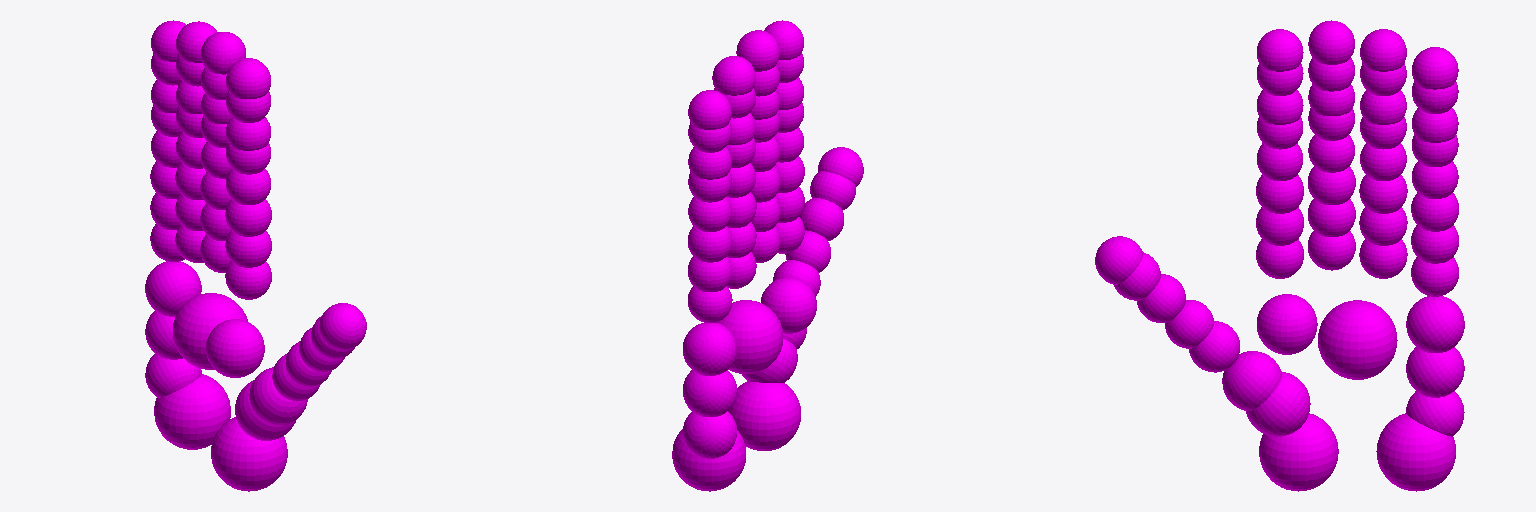
--- Facts derived from the render (not from the file) ---
Views: 3 orthographic renders of the robot side by side, from view 1: azimuth 30°, elevation 25°; view 2: azimuth 150°, elevation 25°; view 3: azimuth 270°, elevation 25°.
Model shadow_left with 83 links and 82 joints (25 revolute, 3 prismatic, 54 fixed), rooted at base_link_x, posed all joints at 0.
Links seen in each view (by area): view 1: palm_collision_ball_0, palm_collision_ball_1, palm_collision_ball_2, palm_collision_ball_3, lfmetacarpal_collision_ball_2, thproximal_collision_ball_1, thdistal_collision_ball_2, lfmetacarpal_collision_ball_0, ffdistal_collision_ball_2, mfdistal_collision_ball_2, ffproximal_collision_ball_2, ffproximal_collision_ball_0 (+28 smaller); view 2: palm_collision_ball_1, palm_collision_ball_2, palm_collision_ball_0, lfmetacarpal_collision_ball_2, palm_collision_ball_3, lfmetacarpal_collision_ball_0, lfmetacarpal_collision_ball_1, lfdistal_collision_ball_2, rfdistal_collision_ball_2, thdistal_collision_ball_0, mfdistal_collision_ball_2, lfproximal_collision_ball_2 (+28 smaller); view 3: palm_collision_ball_2, palm_collision_ball_0, palm_collision_ball_1, palm_collision_ball_3, lfmetacarpal_collision_ball_2, thproximal_collision_ball_1, thproximal_collision_ball_0, lfmetacarpal_collision_ball_1, lfmetacarpal_collision_ball_0, thmiddle_collision_ball_0, thdistal_collision_ball_2, mfdistal_collision_ball_2 (+28 smaller).
Link boxes in pixels (x1,y1,x2,y2): palm_collision_ball_0: (154,374,230,449); palm_collision_ball_1: (211,417,287,491); palm_collision_ball_2: (173,293,247,369); palm_collision_ball_3: (206,319,264,377); lfmetacarpal_collision_ball_2: (145,261,201,316); thproximal_collision_ball_1: (249,367,307,425); thdistal_collision_ball_2: (319,303,366,350); lfmetacarpal_collision_ball_0: (145,354,201,397); ffdistal_collision_ball_2: (226,58,270,98); mfdistal_collision_ball_2: (201,32,245,74); ffproximal_collision_ball_2: (225,199,271,236); ffproximal_collision_ball_0: (225,261,271,299); palm_collision_ball_1: (728,381,800,450); palm_collision_ball_2: (716,300,782,373); palm_collision_ball_0: (672,429,745,491); lfmetacarpal_collision_ball_2: (683,323,736,375); palm_collision_ball_3: (761,277,816,333); lfmetacarpal_collision_ball_0: (683,411,736,458); lfmetacarpal_collision_ball_1: (683,370,736,416); lfdistal_collision_ball_2: (688,90,731,129); rfdistal_collision_ball_2: (712,56,755,95); thdistal_collision_ball_0: (799,198,843,240); mfdistal_collision_ball_2: (736,30,779,71); lfproximal_collision_ball_2: (688,226,732,262); palm_collision_ball_2: (1318,300,1397,379); palm_collision_ball_0: (1376,413,1455,491); palm_collision_ball_1: (1259,413,1338,491); palm_collision_ball_3: (1257,294,1317,354); lfmetacarpal_collision_ball_2: (1406,296,1464,352); thproximal_collision_ball_1: (1222,351,1281,410); thproximal_collision_ball_0: (1246,371,1310,436); lfmetacarpal_collision_ball_1: (1406,347,1464,397); lfmetacarpal_collision_ball_0: (1406,391,1464,436); thmiddle_collision_ball_0: (1189,321,1239,372); thdistal_collision_ball_2: (1095,236,1142,284); mfdistal_collision_ball_2: (1308,20,1354,64).
Size in the robot's own frame: 0.0406 by 0.1573 by 0.216 metres.
Meshes: 9 distinct files referenced, 0 mesh visuals loaded (none loaded); not drawn: 21 (reference not matched to a file when rendering).

URDF robot description (shadow_left):
<robot name="shadow_left">
  <link name="base_link_x"/>

  <joint name="dummy_x_translation_joint" type="prismatic">
    <parent link="base_link_x"/>
    <child link="base_link_y"/>
    <origin rpy="0 0 0" xyz="0 0 0"/>
    <axis xyz="1 0 0"/>
    <limit effort="300" lower="-10" upper="10" velocity="2.1750"/>
  </joint>

  <link name="base_link_y"/>

  <joint name="dummy_y_translation_joint" type="prismatic">
    <parent link="base_link_y"/>
    <child link="base_link_z"/>
    <origin rpy="0 0 0" xyz="0 0 0"/>
    <axis xyz="0 1 0"/>
    <limit effort="300" lower="-10" upper="10" velocity="2.1750"/>
  </joint>

  <link name="base_link_z"/>

  <joint name="dummy_z_translation_joint" type="prismatic">
    <parent link="base_link_z"/>
    <child link="base_link_roll"/>
    <origin rpy="0 0 0" xyz="0 0 0"/>
    <axis xyz="0 0 1"/>
    <limit effort="300" lower="-10" upper="10" velocity="2.1750"/>
  </joint>

  <link name="base_link_roll"/>

  <joint name="dummy_x_rotation_joint" type="revolute">
    <parent link="base_link_roll"/>
    <child link="base_link_pitch"/>
    <origin rpy="0 0 0" xyz="0 0 0"/>
    <axis xyz="1 0 0"/>
    <limit effort="100.95" velocity="108.48" lower="-6.283185" upper="6.283185"/>
  </joint>

  <link name="base_link_pitch"/>

  <joint name="dummy_y_rotation_joint" type="revolute">
    <parent link="base_link_pitch"/>
    <child link="base_link_yaw"/>
    <origin rpy="0 0 0" xyz="0 0 0"/>
    <axis xyz="0 1 0"/>
    <limit effort="100.95" velocity="108.48" lower="-6.283185" upper="6.283185"/>
  </joint>

  <link name="base_link_yaw"/>

  <joint name="dummy_z_rotation_joint" type="revolute">
    <parent link="base_link_yaw"/>
    <child link="world"/>
    <origin rpy="0 0 0" xyz="0 0 0"/>
    <axis xyz="0 0 1"/>
    <limit effort="100.95" velocity="108.48" lower="-6.283185" upper="6.283185"/>
  </joint>

  <link name="world"/>
  <joint name="world_joint" type="fixed">
    <parent link="world"/>
    <child link="palm"/>
    <origin rpy="0.0 0.0 1.57079" xyz="0.0 0.0 0.0"/>
  </joint>

  <link name="palm">
    <inertial>
      <origin rpy="0 0 0" xyz="0 0 0.035"/>
      <mass value="0.3"/>
      <inertia ixx="0.0003581" ixy="0.0" ixz="0.0" iyy="0.0005287" iyz="0.0" izz="0.000191"/>
    </inertial>
    <visual>
      <origin rpy="0 0 0" xyz="0 0 0"/>
      <geometry name="palm_visual">
        <mesh filename="meshes/visual/palm_E3M5_left.obj" scale="0.001 0.001 0.001"/>
      </geometry>
    </visual>
    <collision>
      <origin rpy="0 0 0" xyz="-0.011 0.0085 0.042"/>
      <geometry name="palm_collision_geom">
        <box size="0.062 0.007 0.090"/>
      </geometry>
    </collision>
    <collision>
      <origin rpy="0 0 0" xyz="0.002 -0.0035 0.042"/>
      <geometry>
        <box size="0.036 0.017 0.090"/>
      </geometry>
    </collision>
    <!-- palm complement below first finger -->
    <collision>
      <origin rpy="0 0 0" xyz="-0.029 -0.0035 0.082"/>
      <geometry>
        <box size="0.026 0.017 0.010"/>
      </geometry>
    </collision>
    <collision>
      <origin rpy="0.2 0 -0.25" xyz="-0.0265 -0.001 0.070"/>
      <geometry>
        <box size="0.026 0.014 0.018"/>
      </geometry>
    </collision>
    <!-- thumb pulp side -->
    <collision>
      <origin rpy="0 0 0" xyz="-0.0315 -0.0085 0.001"/>
      <geometry>
        <box size="0.021 0.027 0.016"/>
      </geometry>
    </collision>
    <!-- thumb pulp central -->
    <collision>
      <origin rpy="0 0 0.48" xyz="-0.0125 -0.015 0.009"/>
      <geometry>
        <box size="0.022 0.005 0.032"/>
      </geometry>
    </collision>
    <!-- above middle finger-->
    <collision>
      <origin rpy="0 0 0" xyz="-0.011 0 0.089"/>
      <geometry>
        <box size="0.018 0.024 0.004"/>
      </geometry>
    </collision>
    <!-- metacarpal side-->
    <collision>
      <origin rpy="0 0 0" xyz="0.03 0 0.009"/>
      <geometry>
        <box size="0.020 0.024 0.032"/>
      </geometry>
    </collision>
  </link>

  <!-- balls -->

  <link name="palm_collision_ball_0">
    <visual>
    <geometry>
    <sphere radius="0.017"/>
    </geometry>
    <material name="purple">
    <color rgba="1.0 0.0 1.0 1.0"/>
    </material>
    </visual>
    <collision>
    <geometry>
    <sphere radius="0.017"/>
    </geometry>
    </collision>
  </link>
  <joint name="palm_collision_ball_0_joint" type="fixed">
    <parent link="palm"/>
    <child link="palm_collision_ball_0"/>
    <origin rpy="0 0 0" xyz="0.025 -0.005 0.005 "/>
  </joint>

  <link name="palm_collision_ball_1">
    <visual>
    <geometry>
    <sphere radius="0.017"/>
    </geometry>
    <material name="purple">
    <color rgba="1.0 0.0 1.0 1.0"/>
    </material>
    </visual>
    <collision>
    <geometry>
    <sphere radius="0.017"/>
    </geometry>
    </collision>
  </link>
  <joint name="palm_collision_ball_1_joint" type="fixed">
    <parent link="palm"/>
    <child link="palm_collision_ball_1"/>
    <origin rpy="0 0 0" xyz="-0.025 -0.005 0.005 "/>
  </joint>

  <link name="palm_collision_ball_2">
    <visual>
    <geometry>
    <sphere radius="0.017"/>
    </geometry>
    <material name="purple">
    <color rgba="1.0 0.0 1.0 1.0"/>
    </material>
    </visual>
    <collision>
    <geometry>
    <sphere radius="0.017"/>
    </geometry>
    </collision>
  </link>
  <joint name="palm_collision_ball_2_joint" type="fixed">
    <parent link="palm"/>
    <child link="palm_collision_ball_2"/>
    <origin rpy="0 0 0" xyz="0.0 0.0 0.055 "/>
  </joint> 

  <link name="palm_collision_ball_3">
    <visual>
    <geometry>
    <sphere radius="0.013"/>
    </geometry>
    <material name="purple">
    <color rgba="1.0 0.0 1.0 1.0"/>
    </material>
    </visual>
    <collision>
    <geometry>
    <sphere radius="0.013"/>
    </geometry>
    </collision>
  </link>
  <joint name="palm_collision_ball_3_joint" type="fixed">
    <parent link="palm"/>
    <child link="palm_collision_ball_3"/>
    <origin rpy="0 0 0" xyz="-0.03 0.005 0.06 "/>
  </joint>

  <joint name="ee_fixed_joint" type="fixed">
    <parent link="palm"/>
    <child link="ee_link"/>
    <origin rpy="0.0 0.0 0.0" xyz="0.0 0.0 0.00"/>
  </joint>
  <link name="ee_link"/>
  <!-- <joint name="WRJ1" type="revolute">
    <parent link="wrist"/>
    <child link="palm"/>
    <origin rpy="0 0 0" xyz="0 0 0.034"/>
    <axis xyz="1 0 0"/>
    <limit effort="30" lower="-0.698131700798" upper="0.488692190558" velocity="2.0"/>
    <dynamics damping="0.1"/>
  </joint> -->
  <link name="imu"/>
  <joint name="palm_to_imu" type="fixed">
    <parent link="palm"/>
    <child link="imu"/>
    <origin rpy="-1.5707963 3.141592 0.0" xyz="0.01785 0.00765 0.049125"/>
  </joint>
  <link name="ffknuckle">
    <inertial>
      <origin rpy="0 0 0" xyz="0 0 0"/>
      <mass value="0.008"/>
      <inertia ixx="0.00000026" ixy="0.0" ixz="0.0" iyy="0.00000026" iyz="0.0" izz="0.00000032"/>
    </inertial>
    <visual>
      <origin rpy="0 0 0" xyz="0 0 0.0005"/>
      <geometry name="ffknuckle_visual">
        <mesh filename="meshes/visual/f_knuckle_E3M5.obj" scale="0.001 0.001 0.001"/>
      </geometry>
    </visual>
    <collision>
      <origin rpy="0 1.5708 0" xyz="0 0 0"/>
      <geometry name="lh_ffknuckle_collision_geom">
        <mesh filename="meshes/collision/f_knuckle_E3M5.obj"/>
      </geometry>
    </collision>
  </link>

  <!-- balls -->

  <!-- <link name="ffknuckle_collision_ball_0">
    <visual>
    <geometry>
    <sphere radius="0.01"/>
    </geometry>
    <material name="purple">
    <color rgba="1.0 0.0 1.0 1.0"/>
    </material>
    </visual>
    <collision>
    <geometry>
    <sphere radius="0.01"/>
    </geometry>
    </collision>
  </link>
  <joint name="ffknuckle_collision_ball_0_joint" type="fixed">
    <parent link="ffknuckle"/>
    <child link="ffknuckle_collision_ball_0"/>
    <origin rpy="0 0 0" xyz="0.0 0.0 -0.011 "/>
  </joint>

  <link name="ffknuckle_collision_ball_1">
    <visual>
    <geometry>
    <sphere radius="0.01"/>
    </geometry>
    <material name="purple">
    <color rgba="1.0 0.0 1.0 1.0"/>
    </material>
    </visual>
    <collision>
    <geometry>
    <sphere radius="0.01"/>
    </geometry>
    </collision>
  </link>
  <joint name="ffknuckle_collision_ball_1_joint" type="fixed">
    <parent link="ffknuckle"/>
    <child link="ffknuckle_collision_ball_1"/>
    <origin rpy="0 0 0" xyz="0.0 0.0 -0.03 "/>
  </joint>

  <link name="ffknuckle_collision_ball_2">
    <visual>
    <geometry>
    <sphere radius="0.01"/>
    </geometry>
    <material name="purple">
    <color rgba="1.0 0.0 1.0 1.0"/>
    </material>
    </visual>
    <collision>
    <geometry>
    <sphere radius="0.01"/>
    </geometry>
    </collision>
  </link>
  <joint name="ffknuckle_collision_ball_2_joint" type="fixed">
    <parent link="ffknuckle"/>
    <child link="ffknuckle_collision_ball_2"/>
    <origin rpy="0 0 0" xyz="0.0 0.0 -0.05 "/>
  </joint> -->

  <joint name="FFJ4" type="revolute">
    <parent link="palm"/>
    <child link="ffknuckle"/>
    <origin rpy="0 0 0" xyz="-0.033 0 0.095"/>
    <axis xyz="0 1 0"/>
    <limit effort="2" lower="-0.349065850399" upper="0.349065850399" velocity="2.0"/>
    <dynamics damping="0.1"/>
  </joint>
  <link name="ffproximal">
    <inertial>
      <mass value="0.030"/>
      <origin xyz="0 0 0.0225"/>
      <inertia ixx="0.0000098" ixy="0.0" ixz="0.0" iyy="0.00001" iyz="0.0" izz="0.0000018"/>
    </inertial>
    <visual>
      <origin rpy="0 0 0" xyz="0 0 0"/>
      <geometry name="ffproximal_visual">
        <mesh filename="meshes/visual/f_proximal_E3M5.obj" scale="0.001 0.001 0.001"/>
      </geometry>
    </visual>
    <collision>
      <origin rpy="0 0 0" xyz="0 0 0.025"/>
      <geometry name="ffproximal_collision_geom">
        <cylinder length="0.040" radius="0.007"/>
      </geometry>
    </collision>
  </link>

  <!-- balls -->

  <link name="ffproximal_collision_ball_0">
    <visual>
    <geometry>
    <sphere radius="0.0103"/>
    </geometry>
    <material name="purple">
    <color rgba="1.0 0.0 1.0 1.0"/>
    </material>
    </visual>
    <collision>
    <geometry>
    <sphere radius="0.0103"/>
    </geometry>
    </collision>
  </link>
  <joint name="ffproximal_collision_ball_0_joint" type="fixed">
    <parent link="ffproximal"/>
    <child link="ffproximal_collision_ball_0"/>
    <origin rpy="0 0 0" xyz="0.0 0.0 0.0 "/>
  </joint>

  <link name="ffproximal_collision_ball_1">
    <visual>
    <geometry>
    <sphere radius="0.0103"/>
    </geometry>
    <material name="purple">
    <color rgba="1.0 0.0 1.0 1.0"/>
    </material>
    </visual>
    <collision>
    <geometry>
    <sphere radius="0.0103"/>
    </geometry>
    </collision>
  </link>
  <joint name="ffproximal_collision_ball_1_joint" type="fixed">
    <parent link="ffproximal"/>
    <child link="ffproximal_collision_ball_1"/>
    <origin rpy="0 0 0" xyz="0.0 0.0 0.015 "/>
  </joint>

  <link name="ffproximal_collision_ball_2">
    <visual>
    <geometry>
    <sphere radius="0.0103"/>
    </geometry>
    <material name="purple">
    <color rgba="1.0 0.0 1.0 1.0"/>
    </material>
    </visual>
    <collision>
    <geometry>
    <sphere radius="0.0103"/>
    </geometry>
    </collision>
  </link>
  <joint name="ffproximal_collision_ball_2_joint" type="fixed">
    <parent link="ffproximal"/>
    <child link="ffproximal_collision_ball_2"/>
    <origin rpy="0 0 0" xyz="0.0 0.0 0.03 "/>
  </joint>

  <joint name="FFJ3" type="revolute">
    <parent link="ffknuckle"/>
    <child link="ffproximal"/>
    <origin rpy="0 0 0" xyz="0 0 0"/>
    <axis xyz="1 0 0"/>
    <limit effort="2" lower="-0.261799387799" upper="1.57079632679" velocity="2.0"/>
    <dynamics damping="0.1"/>
  </joint>
  <link name="ffmiddle">
    <inertial>
      <origin rpy="0 0 0" xyz="0 0 0.0125"/>
      <mass value="0.017"/>
      <inertia ixx="0.0000026" ixy="0.0" ixz="0.0" iyy="0.0000027" iyz="0.0" izz="0.00000087"/>
    </inertial>
    <visual>
      <origin rpy="0 0 0" xyz="0 0 0"/>
      <geometry name="ffmiddle_visual">
        <mesh filename="meshes/visual/f_middle_E3M5.obj" scale="0.001 0.001 0.001"/>
      </geometry>
    </visual>
    <collision>
      <origin rpy="0 0 0" xyz="0 0 0.0125"/>
      <geometry name="ffmiddle_collision_geom">
        <cylinder length="0.025" radius="0.007"/>
      </geometry>
    </collision>
    <collision>
      <origin rpy="0 0 0" xyz="0 0 0.0"/>
      <geometry>
        <sphere radius="0.007"/>
      </geometry>
    </collision>
    <collision>
      <origin rpy="0 0 0" xyz="0 0 0.025"/>
      <geometry>
        <sphere radius="0.007"/>
      </geometry>
    </collision>
  </link>

  <!-- balls -->

  <link name="ffmiddle_collision_ball_0">
    <visual>
    <geometry>
    <sphere radius="0.010"/>
    </geometry>
    <material name="purple">
    <color rgba="1.0 0.0 1.0 1.0"/>
    </material>
    </visual>
    <collision>
    <geometry>
    <sphere radius="0.010"/>
    </geometry>
    </collision>
  </link>
  <joint name="ffmiddle_collision_ball_0_joint" type="fixed">
    <parent link="ffmiddle"/>
    <child link="ffmiddle_collision_ball_0"/>
    <origin rpy="0 0 0" xyz="0.0 0.0 0.0 "/>
  </joint>

  <link name="ffmiddle_collision_ball_1">
    <visual>
    <geometry>
    <sphere radius="0.010"/>
    </geometry>
    <material name="purple">
    <color rgba="1.0 0.0 1.0 1.0"/>
    </material>
    </visual>
    <collision>
    <geometry>
    <sphere radius="0.010"/>
    </geometry>
    </collision>
  </link>
  <joint name="ffmiddle_collision_ball_1_joint" type="fixed">
    <parent link="ffmiddle"/>
    <child link="ffmiddle_collision_ball_1"/>
    <origin rpy="0 0 0" xyz="0.0 0.0 0.015 "/>
  </joint>

  <joint name="FFJ2" type="revolute">
    <parent link="ffproximal"/>
    <child link="ffmiddle"/>
    <origin rpy="0 0 0" xyz="0 0 0.045"/>
    <axis xyz="1 0 0"/>
    <limit effort="2" lower="0" upper="1.57079632679" velocity="2.0"/>
    <dynamics damping="0.1"/>
  </joint>
  <link name="ffdistal">
    <!--    inertial and mass is enlarged by 10 times to fix the position drive issue in Physx simulation, used in IsaacGym and SAPIEN-->
    <inertial>
      <mass value="0.12"/>
      <origin xyz="0 0 0.012"/>
      <inertia ixx="0.0000094" ixy="0.0" ixz="0.0" iyy="0.000011" iyz="0.0" izz="0.0000053"/>
    </inertial>
    <visual>
      <origin rpy="0 0 0" xyz="0 0 0"/>
      <geometry name="ffdistal_visual">
        <mesh filename="meshes/visual/f_distal_pst.obj" scale="0.001 0.001 0.001"/>
      </geometry>
    </visual>
    <collision>
      <origin rpy="0 0 0" xyz="0 0 0"/>
      <geometry name="ffdistal_collision_geom">
        <mesh filename="meshes/collision/f_distal_pst.obj" scale="0.001 0.001 0.001"/>
      </geometry>
    </collision>
  </link>

  <!-- balls -->

  <link name="ffdistal_collision_ball_0">
    <visual>
    <geometry>
    <sphere radius="0.010"/>
    </geometry>
    <material name="purple">
    <color rgba="1.0 0.0 1.0 1.0"/>
    </material>
    </visual>
    <collision>
    <geometry>
    <sphere radius="0.010"/>
    </geometry>
    </collision>
  </link>
  <joint name="ffdistal_collision_ball_0_joint" type="fixed">
    <parent link="ffdistal"/>
    <child link="ffdistal_collision_ball_0"/>
    <origin rpy="0 0 0" xyz="0.0 0.0 0.0 "/>
  </joint>

  <link name="ffdistal_collision_ball_1">
    <visual>
    <geometry>
    <sphere radius="0.010"/>
    </geometry>
    <material name="purple">
    <color rgba="1.0 0.0 1.0 1.0"/>
    </material>
    </visual>
    <collision>
    <geometry>
    <sphere radius="0.010"/>
    </geometry>
    </collision>
  </link>
  <joint name="ffdistal_collision_ball_1_joint" type="fixed">
    <parent link="ffdistal"/>
    <child link="ffdistal_collision_ball_1"/>
    <origin rpy="0 0 0" xyz="0.0 0.0 0.015 "/>
  </joint>

  <link name="ffdistal_collision_ball_2">
    <visual>
    <geometry>
    <sphere radius="0.010"/>
    </geometry>
    <material name="purple">
    <color rgba="1.0 0.0 1.0 1.0"/>
    </material>
    </visual>
    <collision>
    <geometry>
    <sphere radius="0.010"/>
    </geometry>
    </collision>
  </link>
  <joint name="ffdistal_collision_ball_2_joint" type="fixed">
    <parent link="ffdistal"/>
    <child link="ffdistal_collision_ball_2"/>
    <origin rpy="0 0 0" xyz="0.0 0.0 0.025 "/>
  </joint>

  <joint name="FFJ1" type="revolute">
    <parent link="ffmiddle"/>
    <child link="ffdistal"/>
    <origin rpy="0 0 0" xyz="0 0 0.025"/>
    <axis xyz="1 0 0"/>
    <!-- standard distal joint -->
    <limit effort="2" lower="0" upper="1.57079632679" velocity="2.0"/>
    <dynamics damping="0.1"/>
  </joint>
  <link name="fftip">
    <inertial>
      <mass value="0.001"/>
      <inertia ixx="0.0" ixy="0.0" ixz="0.0" iyy="0.0" iyz="0.0" izz="0.0"/>
    </inertial>
  </link>
  <joint name="FFtip" type="fixed">
    <parent link="ffdistal"/>
    <child link="fftip"/>
    <origin rpy="0 0 0" xyz="0 0 0.026"/>
  </joint>
  <link name="mfknuckle">
    <inertial>
      <origin rpy="0 0 0" xyz="0 0 0"/>
      <mass value="0.008"/>
      <inertia ixx="0.00000026" ixy="0.0" ixz="0.0" iyy="0.00000026" iyz="0.0" izz="0.00000032"/>
    </inertial>
    <visual>
      <origin rpy="0 0 0" xyz="0 0 0.0005"/>
      <geometry name="mfknuckle_visual">
        <mesh filename="meshes/visual/f_knuckle_E3M5.obj" scale="0.001 0.001 0.001"/>
      </geometry>
    </visual>
    <collision>
      <geometry name="ffknuckle_visual">
        <mesh filename="meshes/collision/f_knuckle_E3M5.obj"/>
      </geometry>
    </collision>
  </link>

  <joint name="MFJ4" type="revolute">
    <parent link="palm"/>
    <child link="mfknuckle"/>
    <!--<origin xyz="0.033 0 0.095" rpy="0 0 0" />-->
    <origin rpy="0 0 0" xyz="-0.011 0 0.099"/>
    <axis xyz="0 1 0"/>
    <limit effort="2" lower="-0.349065850399" upper="0.349065850399" velocity="2.0"/>
    <dynamics damping="0.1"/>
  </joint>
  <link name="mfproximal">
    <inertial>
      <mass value="0.030"/>
      <origin xyz="0 0 0.0225"/>
      <inertia ixx="0.0000098" ixy="0.0" ixz="0.0" iyy="0.00001" iyz="0.0" izz="0.0000018"/>
    </inertial>
    <visual>
      <origin rpy="0 0 0" xyz="0 0 0"/>
      <geometry name="mfproximal_visual">
        <mesh filename="meshes/visual/f_proximal_E3M5.obj" scale="0.001 0.001 0.001"/>
      </geometry>
    </visual>
    <collision>
      <origin rpy="0 0 0" xyz="0 0 0.025"/>
      <geometry name="mfproximal_collision_geom">
        <cylinder length="0.040" radius="0.007"/>
      </geometry>
    </collision>
  </link>

  <!-- balls -->

  <link name="mfproximal_collision_ball_0">
    <visual>
    <geometry>
    <sphere radius="0.0103"/>
    </geometry>
    <material name="purple">
    <color rgba="1.0 0.0 1.0 1.0"/>
    </material>
    </visual>
    <collision>
    <geometry>
    <sphere radius="0.0103"/>
    </geometry>
    </collision>
  </link>
  <joint name="mfproximal_collision_ball_0_joint" type="fixed">
    <parent link="mfproximal"/>
    <child link="mfproximal_collision_ball_0"/>
    <origin rpy="0 0 0" xyz="0.0 0.0 0.0 "/>
  </joint>

  <link name="mfproximal_collision_ball_1">
    <visual>
    <geometry>
    <sphere radius="0.0103"/>
    </geometry>
    <material name="purple">
    <color rgba="1.0 0.0 1.0 1.0"/>
    </material>
    </visual>
    <collision>
    <geometry>
    <sphere radius="0.0103"/>
    </geometry>
    </collision>
  </link>
  <joint name="mfproximal_collision_ball_1_joint" type="fixed">
    <parent link="mfproximal"/>
    <child link="mfproximal_collision_ball_1"/>
    <origin rpy="0 0 0" xyz="0.0 0.0 0.015 "/>
  </joint>

  <link name="mfproximal_collision_ball_2">
    <visual>
    <geometry>
    <sphere radius="0.0103"/>
    </geometry>
    <material name="purple">
    <color rgba="1.0 0.0 1.0 1.0"/>
    </material>
    </visual>
    <collision>
    <geometry>
    <sphere radius="0.0103"/>
    </geometry>
    </collision>
  </link>
  <joint name="mfproximal_collision_ball_2_joint" type="fixed">
    <parent link="mfproximal"/>
    <child link="mfproximal_collision_ball_2"/>
    <origin rpy="0 0 0" xyz="0.0 0.0 0.03 "/>
  </joint>

  <joint name="MFJ3" type="revolute">
    <parent link="mfknuckle"/>
    <child link="mfproximal"/>
    <origin rpy="0 0 0" xyz="0 0 0"/>
    <axis xyz="1 0 0"/>
    <limit effort="2" lower="-0.261799387799" upper="1.57079632679" velocity="2.0"/>
    <dynamics damping="0.1"/>
  </joint>
  <link name="mfmiddle">
    <inertial>
      <origin rpy="0 0 0" xyz="0 0 0.0125"/>
      <mass value="0.017"/>
      <inertia ixx="0.0000026" ixy="0.0" ixz="0.0" iyy="0.0000027" iyz="0.0" izz="0.00000087"/>
    </inertial>
    <visual>
      <origin rpy="0 0 0" xyz="0 0 0"/>
      <geometry name="mfmiddle_visual">
        <mesh filename="meshes/visual/f_middle_E3M5.obj" scale="0.001 0.001 0.001"/>
      </geometry>
    </visual>
    <collision>
      <origin rpy="0 0 0" xyz="0 0 0.0125"/>
      <geometry name="mfmiddle_collision_geom">
        <cylinder length="0.025" radius="0.007"/>
      </geometry>
    </collision>
    <collision>
      <origin rpy="0 0 0" xyz="0 0 0.0"/>
      <geometry>
        <sphere radius="0.007"/>
      </geometry>
    </collision>
    <collision>
      <origin rpy="0 0 0" xyz="0 0 0.025"/>
      <geometry>
        <sphere radius="0.007"/>
      </geometry>
    </collision>
  </link>

  <!-- balls -->

  <link name="mfmiddle_collision_ball_0">
    <visual>
    <geometry>
    <sphere radius="0.010"/>
    </geometry>
    <material name="purple">
    <color rgba="1.0 0.0 1.0 1.0"/>
    </material>
    </visual>
    <collision>
    <geometry>
    <sphere radius="0.010"/>
    </geometry>
    </collision>
  </link>
  <joint name="mfmiddle_collision_ball_0_joint" type="fixed">
    <parent link="mfmiddle"/>
    <child link="mfmiddle_collision_ball_0"/>
    <origin rpy="0 0 0" xyz="0.0 0.0 0.0 "/>
  </joint>

  <link name="mfmiddle_collision_ball_1">
    <visual>
    <geometry>
    <sphere radius="0.010"/>
    </geometry>
    <material name="purple">
    <color rgba="1.0 0.0 1.0 1.0"/>
    </material>
    </visual>
    <collision>
    <geometry>
    <sphere radius="0.010"/>
    </geometry>
    </collision>
  </link>
  <joint name="mfmiddle_collision_ball_1_joint" type="fixed">
    <parent link="mfmiddle"/>
    <child link="mfmiddle_collision_ball_1"/>
    <origin rpy="0 0 0" xyz="0.0 0.0 0.015 "/>
  </joint>

  <joint name="MFJ2" type="revolute">
    <parent link="mfproximal"/>
    <child link="mfmiddle"/>
    <origin rpy="0 0 0" xyz="0 0 0.045"/>
    <axis xyz="1 0 0"/>
    <limit effort="2" lower="0" upper="1.57079632679" velocity="2.0"/>
    <dynamics damping="0.1"/>
  </joint>
  <link name="mfdistal">
    <!--    inertial and mass is enlarged by 10 times to fix the position drive issue in Physx simulation, used in IsaacGym and SAPIEN-->
    <inertial>
      <mass value="0.12"/>
      <origin xyz="0 0 0.012"/>
      <inertia ixx="0.0000094" ixy="0.0" ixz="0.0" iyy="0.000011" iyz="0.0" izz="0.0000053"/>
    </inertial>
    <visual>
      <origin rpy="0 0 0" xyz="0 0 0"/>
      <geometry name="mfdistal_visual">
        <mesh filename="meshes/visual/f_distal_pst.obj" scale="0.001 0.001 0.001"/>
      </geometry>
    </visual>
    <collision>
      <origin rpy="0 0 0" xyz="0 0 0"/>
      <geometry name="mfdistal_collision_geom">
        <mesh filename="meshes/collision/f_distal_pst.obj" scale="0.001 0.001 0.001"/>
      </geometry>
    </collision>
  </link>

  <!-- balls -->

  <link name="mfdistal_collision_ball_0">
    <visual>
    <geometry>
    <sphere radius="0.010"/>
    </geometry>
    <material name="purple">
    <color rgba="1.0 0.0 1.0 1.0"/>
    </material>
    </visual>
    <collision>
    <geometry>
    <sphere radius="0.010"/>
    </geometry>
    </collision>
  </link>
  <joint name="mfdistal_collision_ball_0_joint" type="fixed">
    <parent link="mfdistal"/>
    <child link="mfdistal_collision_ball_0"/>
    <origin rpy="0 0 0" xyz="0.0 0.0 0.0 "/>
  </joint>

  <link name="mfdistal_collision_ball_1">
    <visual>
    <geometry>
    <sphere radius="0.010"/>
    </geometry>
    <material name="purple">
    <color rgba="1.0 0.0 1.0 1.0"/>
    </material>
    </visual>
    <collision>
    <geometry>
    <sphere radius="0.010"/>
    </geometry>
    </collision>
  </link>
  <joint name="mfdistal_collision_ball_1_joint" type="fixed">
    <parent link="mfdistal"/>
    <child link="mfdistal_collision_ball_1"/>
    <origin rpy="0 0 0" xyz="0.0 0.0 0.0125 "/>
  </joint>

  <link name="mfdistal_collision_ball_2">
    <visual>
    <geometry>
    <sphere radius="0.010"/>
    </geometry>
    <material name="purple">
    <color rgba="1.0 0.0 1.0 1.0"/>
    </material>
    </visual>
    <collision>
    <geometry>
    <sphere radius="0.010"/>
    </geometry>
    </collision>
  </link>
  <joint name="mfdistal_collision_ball_2_joint" type="fixed">
    <parent link="mfdistal"/>
    <child link="mfdistal_collision_ball_2"/>
    <origin rpy="0 0 0" xyz="0.0 0.0 0.025 "/>
  </joint>

  <joint name="MFJ1" type="revolute">
    <parent link="mfmiddle"/>
    <child link="mfdistal"/>
    <origin rpy="0 0 0" xyz="0 0 0.025"/>
    <axis xyz="1 0 0"/>
    <!-- standard distal joint -->
    <limit effort="2" lower="0" upper="1.57079632679" velocity="2.0"/>
    <dynamics damping="0.1"/>
  </joint>
  <link name="mftip">
    <inertial>
      <mass value="0.001"/>
      <inertia ixx="0.0" ixy="0.0" ixz="0.0" iyy="0.0" iyz="0.0" izz="0.0"/>
    </inertial>
  </link>
  <joint name="MFtip" type="fixed">
    <parent link="mfdistal"/>
    <child link="mftip"/>
    <origin rpy="0 0 0" xyz="0 0 0.026"/>
  </joint>
  <link name="rfknuckle">
    <inertial>
      <origin rpy="0 0 0" xyz="0 0 0"/>
      <mass value="0.008"/>
      <inertia ixx="0.00000026" ixy="0.0" ixz="0.0" iyy="0.00000026" iyz="0.0" izz="0.00000032"/>
    </inertial>
    <visual>
      <origin rpy="0 0 0" xyz="0 0 0.0005"/>
      <geometry name="rfknuckle_visual">
        <mesh filename="meshes/visual/f_knuckle_E3M5.obj" scale="0.001 0.001 0.001"/>
      </geometry>
    </visual>
    <collision>
      <geometry name="ffknuckle_visual">
        <mesh filename="meshes/collision/f_knuckle_E3M5.obj"/>
      </geometry>
    </collision>
  </link>
  <joint name="RFJ4" type="revolute">
    <parent link="palm"/>
    <child link="rfknuckle"/>
    <!--<origin xyz="0.033 0 0.095" rpy="0 0 0" />-->
    <origin rpy="0 0 0" xyz="0.011 0 0.095"/>
    <axis xyz="0 -1 0"/>
    <limit effort="2" lower="-0.349065850399" upper="0.349065850399" velocity="2.0"/>
    <dynamics damping="0.1"/>
  </joint>
  <link name="rfproximal">
    <inertial>
      <mass value="0.030"/>
      <origin xyz="0 0 0.0225"/>
      <inertia ixx="0.0000098" ixy="0.0" ixz="0.0" iyy="0.00001" iyz="0.0" izz="0.0000018"/>
    </inertial>
    <visual>
      <origin rpy="0 0 0" xyz="0 0 0"/>
      <geometry name="rfproximal_visual">
        <mesh filename="meshes/visual/f_proximal_E3M5.obj" scale="0.001 0.001 0.001"/>
      </geometry>
    </visual>
    <collision>
      <origin rpy="0 0 0" xyz="0 0 0.025"/>
      <geometry name="rfproximal_collision_geom">
        <cylinder length="0.040" radius="0.007"/>
      </geometry>
    </collision>
  </link>

  <!-- balls -->

  <link name="rfproximal_collision_ball_0">
    <visual>
    <geometry>
    <sphere radius="0.0103"/>
    </geometry>
    <material name="purple">
    <color rgba="1.0 0.0 1.0 1.0"/>
    </material>
    </visual>
    <collision>
    <geometry>
    <sphere radius="0.0103"/>
    </geometry>
    </collision>
  </link>
  <joint name="rfproximal_collision_ball_0_joint" type="fixed">
    <parent link="rfproximal"/>
    <child link="rfproximal_collision_ball_0"/>
    <origin rpy="0 0 0" xyz="0.0 0.0 0.0 "/>
  </joint>

  <link name="rfproximal_collision_ball_1">
    <visual>
    <geometry>
    <sphere radius="0.0103"/>
    </geometry>
    <material name="purple">
    <color rgba="1.0 0.0 1.0 1.0"/>
    </material>
    </visual>
    <collision>
    <geometry>
    <sphere radius="0.0103"/>
    </geometry>
    </collision>
  </link>
  <joint name="rfproximal_collision_ball_1_joint" type="fixed">
    <parent link="rfproximal"/>
    <child link="rfproximal_collision_ball_1"/>
    <origin rpy="0 0 0" xyz="0.0 0.0 0.015 "/>
  </joint>

  <link name="rfproximal_collision_ball_2">
    <visual>
    <geometry>
    <sphere radius="0.0103"/>
    </geometry>
    <material name="purple">
    <color rgba="1.0 0.0 1.0 1.0"/>
    </material>
    </visual>
    <collision>
    <geometry>
    <sphere radius="0.0103"/>
    </geometry>
    </collision>
  </link>
  <joint name="rfproximal_collision_ball_2_joint" type="fixed">
    <parent link="rfproximal"/>
    <child link="rfproximal_collision_ball_2"/>
    <origin rpy="0 0 0" xyz="0.0 0.0 0.03 "/>
  </joint>

  <joint name="RFJ3" type="revolute">
    <parent link="rfknuckle"/>
    <child link="rfproximal"/>
    <origin rpy="0 0 0" xyz="0 0 0"/>
    <axis xyz="1 0 0"/>
    <limit effort="2" lower="-0.261799387799" upper="1.57079632679" velocity="2.0"/>
    <dynamics damping="0.1"/>
  </joint>
  <link name="rfmiddle">
    <inertial>
      <origin rpy="0 0 0" xyz="0 0 0.0125"/>
      <mass value="0.017"/>
      <inertia ixx="0.0000026" ixy="0.0" ixz="0.0" iyy="0.0000027" iyz="0.0" izz="0.00000087"/>
    </inertial>
    <visual>
      <origin rpy="0 0 0" xyz="0 0 0"/>
      <geometry name="rfmiddle_visual">
        <mesh filename="meshes/visual/f_middle_E3M5.obj" scale="0.001 0.001 0.001"/>
      </geometry>
    </visual>
    <collision>
      <origin rpy="0 0 0" xyz="0 0 0.0125"/>
      <geometry name="rfmiddle_collision_geom">
        <cylinder length="0.025" radius="0.007"/>
      </geometry>
    </collision>
    <collision>
      <origin rpy="0 0 0" xyz="0 0 0.0"/>
      <geometry>
        <sphere radius="0.007"/>
      </geometry>
    </collision>
    <collision>
      <origin rpy="0 0 0" xyz="0 0 0.025"/>
      <geometry>
        <sphere radius="0.007"/>
      </geometry>
    </collision>
  </link>

  <!-- balls -->

  <link name="rfmiddle_collision_ball_0">
    <visual>
    <geometry>
    <sphere radius="0.010"/>
    </geometry>
    <material name="purple">
    <color rgba="1.0 0.0 1.0 1.0"/>
    </material>
    </visual>
    <collision>
    <geometry>
    <sphere radius="0.010"/>
    </geometry>
    </collision>
  </link>
  <joint name="rfmiddle_collision_ball_0_joint" type="fixed">
    <parent link="rfmiddle"/>
    <child link="rfmiddle_collision_ball_0"/>
    <origin rpy="0 0 0" xyz="0.0 0.0 0.0 "/>
  </joint>

  <link name="rfmiddle_collision_ball_1">
    <visual>
    <geometry>
    <sphere radius="0.010"/>
    </geometry>
    <material name="purple">
    <color rgba="1.0 0.0 1.0 1.0"/>
    </material>
    </visual>
    <collision>
    <geometry>
    <sphere radius="0.010"/>
    </geometry>
    </collision>
  </link>
  <joint name="rfmiddle_collision_ball_1_joint" type="fixed">
    <parent link="rfmiddle"/>
    <child link="rfmiddle_collision_ball_1"/>
    <origin rpy="0 0 0" xyz="0.0 0.0 0.015 "/>
  </joint>

  <joint name="RFJ2" type="revolute">
    <parent link="rfproximal"/>
    <child link="rfmiddle"/>
    <origin rpy="0 0 0" xyz="0 0 0.045"/>
    <axis xyz="1 0 0"/>
    <limit effort="2" lower="0" upper="1.57079632679" velocity="2.0"/>
    <dynamics damping="0.1"/>
  </joint>
  <link name="rfdistal">
    <!--    inertial and mass is enlarged by 10 times to fix the position drive issue in Physx simulation, used in IsaacGym and SAPIEN-->
    <inertial>
      <mass value="0.12"/>
      <origin xyz="0 0 0.012"/>
      <inertia ixx="0.0000094" ixy="0.0" ixz="0.0" iyy="0.000011" iyz="0.0" izz="0.0000053"/>
    </inertial>
    <visual>
      <origin rpy="0 0 0" xyz="0 0 0"/>
      <geometry name="rfdistal_visual">
        <mesh filename="meshes/visual/f_distal_pst.obj" scale="0.001 0.001 0.001"/>
      </geometry>
    </visual>
    <collision>
      <origin rpy="0 0 0" xyz="0 0 0"/>
      <geometry name="rfdistal_collision_geom">
        <mesh filename="meshes/collision/f_distal_pst.obj" scale="0.001 0.001 0.001"/>
      </geometry>
    </collision>
  </link>

  <!-- balls -->

  <link name="rfdistal_collision_ball_0">
    <visual>
    <geometry>
    <sphere radius="0.010"/>
    </geometry>
    <material name="purple">
    <color rgba="1.0 0.0 1.0 1.0"/>
    </material>
    </visual>
    <collision>
    <geometry>
    <sphere radius="0.010"/>
    </geometry>
    </collision>
  </link>
  <joint name="rfdistal_collision_ball_0_joint" type="fixed">
    <parent link="rfdistal"/>
    <child link="rfdistal_collision_ball_0"/>
    <origin rpy="0 0 0" xyz="0.0 0.0 0.0 "/>
  </joint>

  <link name="rfdistal_collision_ball_1">
    <visual>
    <geometry>
    <sphere radius="0.010"/>
    </geometry>
    <material name="purple">
    <color rgba="1.0 0.0 1.0 1.0"/>
    </material>
    </visual>
    <collision>
    <geometry>
    <sphere radius="0.010"/>
    </geometry>
    </collision>
  </link>
  <joint name="rfdistal_collision_ball_1_joint" type="fixed">
    <parent link="rfdistal"/>
    <child link="rfdistal_collision_ball_1"/>
    <origin rpy="0 0 0" xyz="0.0 0.0 0.015 "/>
  </joint>

  <link name="rfdistal_collision_ball_2">
    <visual>
    <geometry>
    <sphere radius="0.010"/>
    </geometry>
    <material name="purple">
    <color rgba="1.0 0.0 1.0 1.0"/>
    </material>
    </visual>
    <collision>
    <geometry>
    <sphere radius="0.010"/>
    </geometry>
    </collision>
  </link>
  <joint name="rfdistal_collision_ball_2_joint" type="fixed">
    <parent link="rfdistal"/>
    <child link="rfdistal_collision_ball_2"/>
    <origin rpy="0 0 0" xyz="0.0 0.0 0.025 "/>
  </joint>

  <joint name="RFJ1" type="revolute">
    <parent link="rfmiddle"/>
    <child link="rfdistal"/>
    <origin rpy="0 0 0" xyz="0 0 0.025"/>
    <axis xyz="1 0 0"/>
    <!-- standard distal joint -->
    <limit effort="2" lower="0" upper="1.57079632679" velocity="2.0"/>
    <dynamics damping="0.1"/>
  </joint>
  <link name="rftip">
    <inertial>
      <mass value="0.001"/>
      <inertia ixx="0.0" ixy="0.0" ixz="0.0" iyy="0.0" iyz="0.0" izz="0.0"/>
    </inertial>
  </link>
  <joint name="RFtip" type="fixed">
    <parent link="rfdistal"/>
    <child link="rftip"/>
    <origin rpy="0 0 0" xyz="0 0 0.026"/>
  </joint>
  <link name="lfmetacarpal">
    <inertial>
      <origin rpy="0 0.9599 0" xyz="0.0317486764706 0 0.0223529411765"/>
      <mass value="0.030"/>
      <inertia ixx="0.0000145" ixy="0.0" ixz="0.0" iyy="0.00001638" iyz="0.0" izz="0.000004272"/>
    </inertial>
    <visual>
      <origin rpy="0 -0.9599 0" xyz="0 0 0"/>
      <geometry name="lfmetacarpal_visual">
        <mesh filename="meshes/visual/lf_metacarpal_E3M5_left.obj" scale="0.001 0.001 0.001"/>
      </geometry>
    </visual>
    <collision>
      <origin rpy="0 -0.9599 0" xyz="-0.026986375 0 0.019"/>
      <geometry name="lfmetacarpal_collision_geom">
        <box size="0.018 0.024 0.040"/>
      </geometry>
    </collision>
  </link>

  <!-- balls -->

  <link name="lfmetacarpal_collision_ball_0">
    <visual>
    <geometry>
    <sphere radius="0.0125"/>
    </geometry>
    <material name="purple">
    <color rgba="1.0 0.0 1.0 1.0"/>
    </material>
    </visual>
    <collision>
    <geometry>
    <sphere radius="0.0125"/>
    </geometry>
    </collision>
  </link>
  <joint name="lfmetacarpal_collision_ball_0_joint" type="fixed">
    <parent link="lfmetacarpal"/>
    <child link="lfmetacarpal_collision_ball_0"/>
    <origin rpy="0 0 0" xyz="0.0 0.0 0.0 "/>
  </joint>

  <link name="lfmetacarpal_collision_ball_1">
    <visual>
    <geometry>
    <sphere radius="0.0125"/>
    </geometry>
    <material name="purple">
    <color rgba="1.0 0.0 1.0 1.0"/>
    </material>
    </visual>
    <collision>
    <geometry>
    <sphere radius="0.0125"/>
    </geometry>
    </collision>
  </link>
  <joint name="lfmetacarpal_collision_ball_1_joint" type="fixed">
    <parent link="lfmetacarpal"/>
    <child link="lfmetacarpal_collision_ball_1"/>
    <origin rpy="0 0 0" xyz="-0.017 0.0 0.012 "/>
  </joint>

  <link name="lfmetacarpal_collision_ball_2">
    <visual>
    <geometry>
    <sphere radius="0.0125"/>
    </geometry>
    <material name="purple">
    <color rgba="1.0 0.0 1.0 1.0"/>
    </material>
    </visual>
    <collision>
    <geometry>
    <sphere radius="0.0125"/>
    </geometry>
    </collision>
  </link>
  <joint name="lfmetacarpal_collision_ball_2_joint" type="fixed">
    <parent link="lfmetacarpal"/>
    <child link="lfmetacarpal_collision_ball_2"/>
    <origin rpy="0 0 0" xyz="-0.034 0.0 0.024 "/>
  </joint>

  <joint name="LFJ5" type="revolute">
    <parent link="palm"/>
    <child link="lfmetacarpal"/>
    <origin rpy="0 0.9599 0" xyz="0.033 0 0.02071"/>
    <axis xyz="1 0 0"/>
    <limit effort="2" lower="0" upper="0.785398163397" velocity="2.0"/>
    <dynamics damping="0.1"/>
  </joint>
  <link name="lfknuckle">
    <inertial>
      <origin rpy="0 0 0" xyz="0 0 0"/>
      <mass value="0.008"/>
      <inertia ixx="0.00000026" ixy="0.0" ixz="0.0" iyy="0.00000026" iyz="0.0" izz="0.00000032"/>
    </inertial>
    <visual>
      <origin rpy="0 0 0" xyz="0 0 0.0005"/>
      <geometry name="lfknuckle_visual">
        <mesh filename="meshes/visual/f_knuckle_E3M5.obj" scale="0.001 0.001 0.001"/>
      </geometry>
    </visual>
    <collision>
      <geometry name="ffknuckle_visual">
        <mesh filename="meshes/collision/f_knuckle_E3M5.obj"/>
      </geometry>
    </collision>
  </link>
  <joint name="LFJ4" type="revolute">
    <parent link="lfmetacarpal"/>
    <child link="lfknuckle"/>
    <!--<origin xyz="0.033 0 0.095" rpy="0 0 0" />-->
    <origin rpy="0 -0.9599 0" xyz="-0.05397275 0 0.03779463"/>
    <axis xyz="0 -1 0"/>
    <limit effort="2" lower="-0.349065850399" upper="0.349065850399" velocity="2.0"/>
    <dynamics damping="0.1"/>
  </joint>
  <link name="lfproximal">
    <inertial>
      <mass value="0.030"/>
      <origin xyz="0 0 0.0225"/>
      <inertia ixx="0.0000098" ixy="0.0" ixz="0.0" iyy="0.00001" iyz="0.0" izz="0.0000018"/>
    </inertial>
    <visual>
      <origin rpy="0 0 0" xyz="0 0 0"/>
      <geometry name="lfproximal_visual">
        <mesh filename="meshes/visual/f_proximal_E3M5.obj" scale="0.001 0.001 0.001"/>
      </geometry>
    </visual>
    <collision>
      <origin rpy="0 0 0" xyz="0 0 0.025"/>
      <geometry name="lfproximal_collision_geom">
        <cylinder length="0.040" radius="0.007"/>
      </geometry>
    </collision>
  </link>

  <!-- balls -->

  <link name="lfproximal_collision_ball_0">
    <visual>
    <geometry>
    <sphere radius="0.0103"/>
    </geometry>
    <material name="purple">
    <color rgba="1.0 0.0 1.0 1.0"/>
    </material>
    </visual>
    <collision>
    <geometry>
    <sphere radius="0.0103"/>
    </geometry>
    </collision>
  </link>
  <joint name="lfproximal_collision_ball_0_joint" type="fixed">
    <parent link="lfproximal"/>
    <child link="lfproximal_collision_ball_0"/>
    <origin rpy="0 0 0" xyz="0.0 0.0 0.0 "/>
  </joint>

  <link name="lfproximal_collision_ball_1">
    <visual>
    <geometry>
    <sphere radius="0.0103"/>
    </geometry>
    <material name="purple">
    <color rgba="1.0 0.0 1.0 1.0"/>
    </material>
    </visual>
    <collision>
    <geometry>
    <sphere radius="0.0103"/>
    </geometry>
    </collision>
  </link>
  <joint name="lfproximal_collision_ball_1_joint" type="fixed">
    <parent link="lfproximal"/>
    <child link="lfproximal_collision_ball_1"/>
    <origin rpy="0 0 0" xyz="0.0 0.0 0.015 "/>
  </joint>

  <link name="lfproximal_collision_ball_2">
    <visual>
    <geometry>
    <sphere radius="0.0103"/>
    </geometry>
    <material name="purple">
    <color rgba="1.0 0.0 1.0 1.0"/>
    </material>
    </visual>
    <collision>
    <geometry>
    <sphere radius="0.0103"/>
    </geometry>
    </collision>
  </link>
  <joint name="lfproximal_collision_ball_2_joint" type="fixed">
    <parent link="lfproximal"/>
    <child link="lfproximal_collision_ball_2"/>
    <origin rpy="0 0 0" xyz="0.0 0.0 0.03 "/>
  </joint>

  <joint name="LFJ3" type="revolute">
    <parent link="lfknuckle"/>
    <child link="lfproximal"/>
    <origin rpy="0 0 0" xyz="0 0 0"/>
    <axis xyz="1 0 0"/>
    <limit effort="2" lower="-0.261799387799" upper="1.57079632679" velocity="2.0"/>
    <dynamics damping="0.1"/>
  </joint>
  <link name="lfmiddle">
    <inertial>
      <origin rpy="0 0 0" xyz="0 0 0.0125"/>
      <mass value="0.017"/>
      <inertia ixx="0.0000026" ixy="0.0" ixz="0.0" iyy="0.0000027" iyz="0.0" izz="0.00000087"/>
    </inertial>
    <visual>
      <origin rpy="0 0 0" xyz="0 0 0"/>
      <geometry name="lfmiddle_visual">
        <mesh filename="meshes/visual/f_middle_E3M5.obj" scale="0.001 0.001 0.001"/>
      </geometry>
    </visual>
    <collision>
      <origin rpy="0 0 0" xyz="0 0 0.0125"/>
      <geometry name="lfmiddle_collision_geom">
        <cylinder length="0.025" radius="0.007"/>
      </geometry>
    </collision>
    <collision>
      <origin rpy="0 0 0" xyz="0 0 0.0"/>
      <geometry>
        <sphere radius="0.007"/>
      </geometry>
    </collision>
    <collision>
      <origin rpy="0 0 0" xyz="0 0 0.025"/>
      <geometry>
        <sphere radius="0.007"/>
      </geometry>
    </collision>
  </link>

  <!-- balls -->

  <link name="lfmiddle_collision_ball_0">
    <visual>
    <geometry>
    <sphere radius="0.010"/>
    </geometry>
    <material name="purple">
    <color rgba="1.0 0.0 1.0 1.0"/>
    </material>
    </visual>
    <collision>
    <geometry>
    <sphere radius="0.010"/>
    </geometry>
    </collision>
  </link>
  <joint name="lfmiddle_collision_ball_0_joint" type="fixed">
    <parent link="lfmiddle"/>
    <child link="lfmiddle_collision_ball_0"/>
    <origin rpy="0 0 0" xyz="0.0 0.0 0.0 "/>
  </joint>

  <link name="lfmiddle_collision_ball_1">
    <visual>
    <geometry>
    <sphere radius="0.010"/>
    </geometry>
    <material name="purple">
    <color rgba="1.0 0.0 1.0 1.0"/>
    </material>
    </visual>
    <collision>
    <geometry>
    <sphere radius="0.010"/>
    </geometry>
    </collision>
  </link>
  <joint name="lfmiddle_collision_ball_1_joint" type="fixed">
    <parent link="lfmiddle"/>
    <child link="lfmiddle_collision_ball_1"/>
    <origin rpy="0 0 0" xyz="0.0 0.0 0.015 "/>
  </joint>

  <joint name="LFJ2" type="revolute">
    <parent link="lfproximal"/>
    <child link="lfmiddle"/>
    <origin rpy="0 0 0" xyz="0 0 0.045"/>
    <axis xyz="1 0 0"/>
    <limit effort="2" lower="0" upper="1.57079632679" velocity="2.0"/>
    <dynamics damping="0.1"/>
  </joint>
  <link name="lfdistal">
    <!--    inertial and mass is enlarged by 10 times to fix the position drive issue in Physx simulation, used in IsaacGym and SAPIEN-->
    <inertial>
      <mass value="0.12"/>
      <origin xyz="0 0 0.012"/>
      <inertia ixx="0.0000094" ixy="0.0" ixz="0.0" iyy="0.000011" iyz="0.0" izz="0.0000053"/>
    </inertial>
    <visual>
      <origin rpy="0 0 0" xyz="0 0 0"/>
      <geometry name="lfdistal_visual">
        <mesh filename="meshes/visual/f_distal_pst.obj" scale="0.001 0.001 0.001"/>
      </geometry>
    </visual>
    <collision>
      <origin rpy="0 0 0" xyz="0 0 0"/>
      <geometry name="lfdistal_collision_geom">
        <mesh filename="meshes/visual/f_distal_pst.obj" scale="0.001 0.001 0.001"/>
      </geometry>
    </collision>
  </link>

  <!-- balls -->

  <link name="lfdistal_collision_ball_0">
    <visual>
    <geometry>
    <sphere radius="0.010"/>
    </geometry>
    <material name="purple">
    <color rgba="1.0 0.0 1.0 1.0"/>
    </material>
    </visual>
    <collision>
    <geometry>
    <sphere radius="0.010"/>
    </geometry>
    </collision>
  </link>
  <joint name="lfdistal_collision_ball_0_joint" type="fixed">
    <parent link="lfdistal"/>
    <child link="lfdistal_collision_ball_0"/>
    <origin rpy="0 0 0" xyz="0.0 0.0 0.0 "/>
  </joint>

  <link name="lfdistal_collision_ball_1">
    <visual>
    <geometry>
    <sphere radius="0.010"/>
    </geometry>
    <material name="purple">
    <color rgba="1.0 0.0 1.0 1.0"/>
    </material>
    </visual>
    <collision>
    <geometry>
    <sphere radius="0.010"/>
    </geometry>
    </collision>
  </link>
  <joint name="lfdistal_collision_ball_1_joint" type="fixed">
    <parent link="lfdistal"/>
    <child link="lfdistal_collision_ball_1"/>
    <origin rpy="0 0 0" xyz="0.0 0.0 0.015 "/>
  </joint>

  <link name="lfdistal_collision_ball_2">
    <visual>
    <geometry>
    <sphere radius="0.010"/>
    </geometry>
    <material name="purple">
    <color rgba="1.0 0.0 1.0 1.0"/>
    </material>
    </visual>
    <collision>
    <geometry>
    <sphere radius="0.010"/>
    </geometry>
    </collision>
  </link>
  <joint name="lfdistal_collision_ball_2_joint" type="fixed">
    <parent link="lfdistal"/>
    <child link="lfdistal_collision_ball_2"/>
    <origin rpy="0 0 0" xyz="0.0 0.0 0.025 "/>
  </joint>

  <joint name="LFJ1" type="revolute">
    <parent link="lfmiddle"/>
    <child link="lfdistal"/>
    <origin rpy="0 0 0" xyz="0 0 0.025"/>
    <axis xyz="1 0 0"/>
    <!-- standard distal joint -->
    <limit effort="2" lower="0" upper="1.57079632679" velocity="2.0"/>
    <dynamics damping="0.1"/>
  </joint>
  <link name="lftip">
    <inertial>
      <mass value="0.001"/>
      <inertia ixx="0.0" ixy="0.0" ixz="0.0" iyy="0.0" iyz="0.0" izz="0.0"/>
    </inertial>
  </link>
  <joint name="LFtip" type="fixed">
    <parent link="lfdistal"/>
    <child link="lftip"/>
    <origin rpy="0 0 0" xyz="0 0 0.026"/>
  </joint>
  <link name="thbase">
    <inertial>
      <mass value="0.010"/>
      <origin rpy="0 0 0" xyz="0 0 0"/>
      <inertia ixx="0.00000016" ixy="0.0" ixz="0.0" iyy="0.00000016" iyz="0.0" izz="0.00000016"/>
    </inertial>
    <visual>
      <origin rpy="0 0 0" xyz="0 0 0"/>
      <geometry name="thbase_visual">
        <box size="0.001 0.001 0.001"/>
      </geometry>
    </visual>
    <collision>
      <origin rpy="0 0 0" xyz="0 0 0"/>
      <geometry name="thbase_collision_geom">
        <sphere radius="0.011"/>
      </geometry>
    </collision>
  </link>
  <joint name="THJ5" type="revolute">
    <parent link="palm"/>
    <child link="thbase"/>
    <origin rpy="-0.785398163397 0 1.57079632679" xyz="-0.034 -0.00858 0.029"/>
    <axis xyz="0 0 1"/>
    <limit effort="5.0" lower="-1.0471975512" upper="1.0471975512" velocity="4.0"/>
    <dynamics damping="0.2"/>
  </joint>
  <link name="thproximal">
    <inertial>
      <mass value="0.040"/>
      <origin rpy="0 0 0" xyz="0 0 0.019"/>
      <inertia ixx="0.0000136" ixy="0.0" ixz="0.0" iyy="0.0000136" iyz="0.0" izz="0.00000313"/>
    </inertial>
    <visual>
      <origin rpy="0 0 1.57079632679" xyz="0 0 0"/>
      <geometry name="thproximal_visual">
        <mesh filename="meshes/visual/th_proximal_E3M5.obj" scale="0.001 0.001 0.001"/>
      </geometry>
    </visual>
    <collision>
      <origin rpy="0 0 1.57079632679" xyz="0 0 0"/>
      <geometry name="thproximal_collision">
        <mesh filename="meshes/collision/th_proximal_E3M5.obj" scale="0.001 0.001 0.001"/>
      </geometry>
    </collision>
  </link>

  <!-- balls -->

  <link name="thproximal_collision_ball_0">
    <visual>
    <geometry>
    <sphere radius="0.014"/>
    </geometry>
    <material name="purple">
    <color rgba="1.0 0.0 1.0 1.0"/>
    </material>
    </visual>
    <collision>
    <geometry>
    <sphere radius="0.014"/>
    </geometry>
    </collision>
  </link>
  <joint name="thproximal_collision_ball_0_joint" type="fixed">
    <parent link="thproximal"/>
    <child link="thproximal_collision_ball_0"/>
    <origin rpy="0 0 0" xyz="0.0 0.0 0.0 "/>
  </joint>

  <link name="thproximal_collision_ball_1">
    <visual>
    <geometry>
    <sphere radius="0.013"/>
    </geometry>
    <material name="purple">
    <color rgba="1.0 0.0 1.0 1.0"/>
    </material>
    </visual>
    <collision>
    <geometry>
    <sphere radius="0.013"/>
    </geometry>
    </collision>
  </link>
  <joint name="thproximal_collision_ball_1_joint" type="fixed">
    <parent link="thproximal"/>
    <child link="thproximal_collision_ball_1"/>
    <origin rpy="0 0 0" xyz="0.0 0.0 0.015 "/>
  </joint>

  <joint name="THJ4" type="revolute">
    <parent link="thbase"/>
    <child link="thproximal"/>
    <origin rpy="0 0 0" xyz="0 0 0"/>
    <axis xyz="0 -1 0"/>
    <limit effort="3" lower="0.0" upper="1.2217304764" velocity="4.0"/>
    <dynamics damping="0.2"/>
  </joint>
  <link name="thhub">
    <inertial>
      <mass value="0.005"/>
      <origin rpy="0 0 0" xyz="0 0 0"/>
      <inertia ixx="0.000001" ixy="0.0" ixz="0.0" iyy="0.000001" iyz="0.0" izz="0.0000003"/>
    </inertial>
    <collision>
      <origin rpy="0 0 0" xyz="0 0 0"/>
      <geometry name="thhub_collision_geom">
        <sphere radius="0.010"/>
      </geometry>
    </collision>
  </link>
  <joint name="THJ3" type="revolute">
    <parent link="thproximal"/>
    <child link="thhub"/>
    <origin rpy="0 0 0" xyz="0 0 0.038"/>
    <axis xyz="0 -1 0"/>
    <limit effort="2.0" lower="-0.209439510239" upper="0.209439510239" velocity="4.0"/>
    <dynamics damping="0.2"/>
  </joint>
  <link name="thmiddle">
    <inertial>
      <mass value="0.020"/>
      <origin rpy="0 0 0" xyz="0 0 0.016"/>
      <inertia ixx="0.0000051" ixy="0.0" ixz="0.0" iyy="0.0000051" iyz="0.0" izz="0.00000121"/>
    </inertial>
    <visual>
      <origin rpy="0 0 1.57079632679" xyz="0 0 0"/>
      <geometry name="thmiddle_visual">
        <mesh filename="meshes/visual/th_middle_E3M5.obj" scale="0.001 0.001 0.001"/>
      </geometry>
    </visual>
    <collision>
      <geometry name="thmiddle_collision">
        <mesh filename="meshes/collision/th_middle_E3M5.obj" scale="0.001 0.001 0.001"/>
      </geometry>
    </collision>
  </link>

  <!-- balls -->

  <link name="thmiddle_collision_ball_0">
    <visual>
    <geometry>
    <sphere radius="0.011"/>
    </geometry>
    <material name="purple">
    <color rgba="1.0 0.0 1.0 1.0"/>
    </material>
    </visual>
    <collision>
    <geometry>
    <sphere radius="0.011"/>
    </geometry>
    </collision>
  </link>
  <joint name="thmiddle_collision_ball_0_joint" type="fixed">
    <parent link="thmiddle"/>
    <child link="thmiddle_collision_ball_0"/>
    <origin rpy="0 0 0" xyz="0.0 0.0 0.0 "/>
  </joint>

  <link name="thmiddle_collision_ball_1">
    <visual>
    <geometry>
    <sphere radius="0.0105"/>
    </geometry>
    <material name="purple">
    <color rgba="1.0 0.0 1.0 1.0"/>
    </material>
    </visual>
    <collision>
    <geometry>
    <sphere radius="0.0105"/>
    </geometry>
    </collision>
  </link>
  <joint name="thmiddle_collision_ball_1_joint" type="fixed">
    <parent link="thmiddle"/>
    <child link="thmiddle_collision_ball_1"/>
    <origin rpy="0 0 0" xyz="0.0 0.0 0.015 "/>
  </joint>

  <joint name="THJ2" type="revolute">
    <parent link="thhub"/>
    <child link="thmiddle"/>
    <origin rpy="0 0 0" xyz="0 0 0"/>
    <axis xyz="1 0 0"/>
    <limit effort="2.0" lower="-0.698131700798" upper="0.698131700798" velocity="2.0"/>
    <dynamics damping="0.1"/>
  </joint>
  <!-- common -->
  <link name="thdistal">
    <!--    inertial and mass is enlarged by 10 times to fix the position drive issue in Physx simulation, used in IsaacGym and SAPIEN-->
    <inertial>
      <mass value="0.16"/>
      <origin rpy="0 0 0" xyz="0 0 0.01375"/>
      <inertia ixx="0.000021" ixy="0.0" ixz="0.0" iyy="0.000022" iyz="0.0" izz="0.00001"/>
    </inertial>
    <visual>
      <origin rpy="0 0 0" xyz="0 0 0"/>
      <geometry name="thdistal_visual">
        <mesh filename="meshes/visual/th_distal_pst.obj" scale="0.001 0.001 0.001"/>
      </geometry>
    </visual>
    <collision>
      <origin rpy="0 0 0" xyz="0 0 0"/>
      <geometry name="thmiddle_collision_geom">
        <mesh filename="meshes/visual/th_distal_pst.obj" scale="0.001 0.001 0.001"/>
      </geometry>
    </collision>
  </link>

  <!-- balls -->

  <link name="thdistal_collision_ball_0">
    <visual>
    <geometry>
    <sphere radius="0.0105"/>
    </geometry>
    <material name="purple">
    <color rgba="1.0 0.0 1.0 1.0"/>
    </material>
    </visual>
    <collision>
    <geometry>
    <sphere radius="0.0105"/>
    </geometry>
    </collision>
  </link>
  <joint name="thdistal_collision_ball_0_joint" type="fixed">
    <parent link="thdistal"/>
    <child link="thdistal_collision_ball_0"/>
    <origin rpy="0 0 0" xyz="0.0 0.0 0.0 "/>
  </joint>

  <link name="thdistal_collision_ball_1">
    <visual>
    <geometry>
    <sphere radius="0.0105"/>
    </geometry>
    <material name="purple">
    <color rgba="1.0 0.0 1.0 1.0"/>
    </material>
    </visual>
    <collision>
    <geometry>
    <sphere radius="0.0105"/>
    </geometry>
    </collision>
  </link>
  <joint name="thdistal_collision_ball_1_joint" type="fixed">
    <parent link="thdistal"/>
    <child link="thdistal_collision_ball_1"/>
    <origin rpy="0 0 0" xyz="0.0 0.0 0.015 "/>
  </joint>

  <link name="thdistal_collision_ball_2">
    <visual>
    <geometry>
    <sphere radius="0.0105"/>
    </geometry>
    <material name="purple">
    <color rgba="1.0 0.0 1.0 1.0"/>
    </material>
    </visual>
    <collision>
    <geometry>
    <sphere radius="0.0105"/>
    </geometry>
    </collision>
  </link>
  <joint name="thdistal_collision_ball_2_joint" type="fixed">
    <parent link="thdistal"/>
    <child link="thdistal_collision_ball_2"/>
    <origin rpy="0 0 0" xyz="0.0 0.0 0.025 "/>
  </joint>

  <joint name="THJ1" type="revolute">
    <parent link="thmiddle"/>
    <child link="thdistal"/>
    <origin rpy="0 0 0" xyz="0 0 0.032"/>
    <axis xyz="1 0 0"/>
    <limit effort="1.0" lower="-0.261799387799" upper="1.57079632679" velocity="4.0"/>
    <dynamics damping="0.2"/>
  </joint>
  <link name="thtip">
    <inertial>
      <mass value="0.001"/>
      <inertia ixx="0.0" ixy="0.0" ixz="0.0" iyy="0.0" iyz="0.0" izz="0.0"/>
    </inertial>
  </link>
  <joint name="THtip" type="fixed">
    <parent link="thdistal"/>
    <child link="thtip"/>
    <origin rpy="0 0 0" xyz="0 0 0.0275"/>
  </joint>
</robot>
